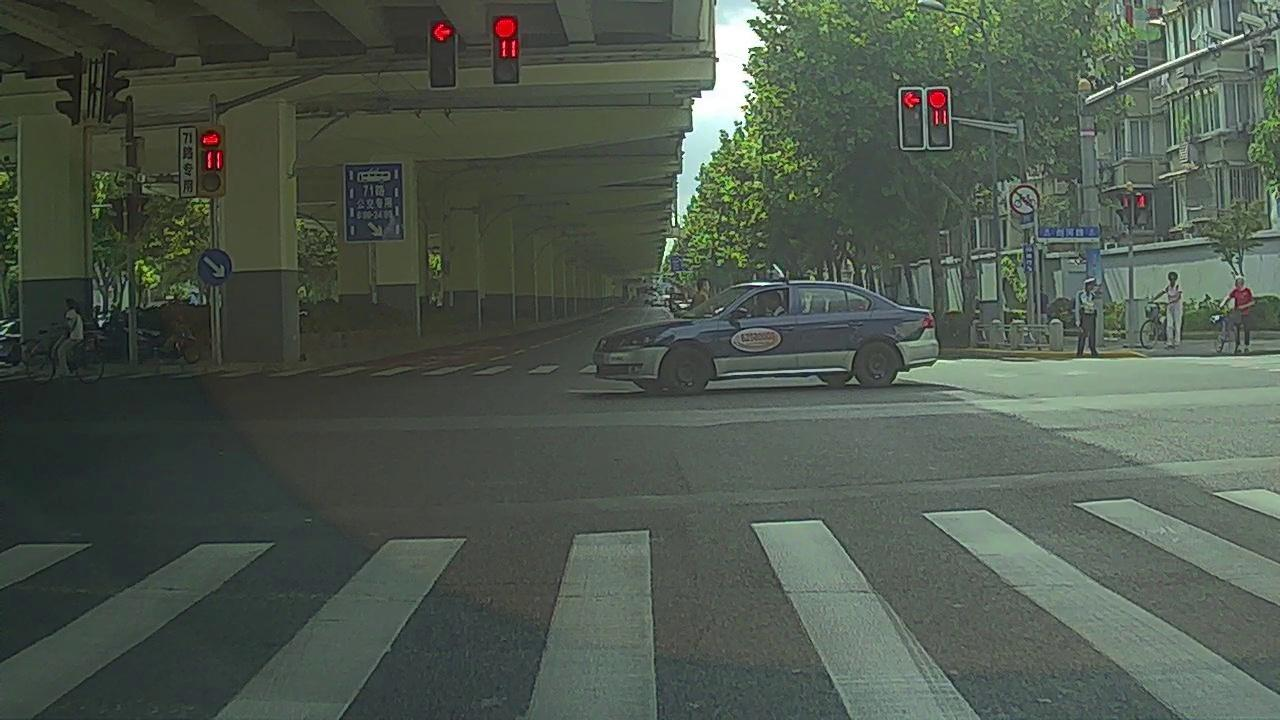traffic_light: (428, 20, 455, 88), (492, 16, 519, 84), (900, 89, 924, 149), (926, 88, 950, 148)
